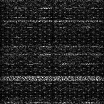lte: (1, 75, 104, 81), (1, 19, 104, 22)
